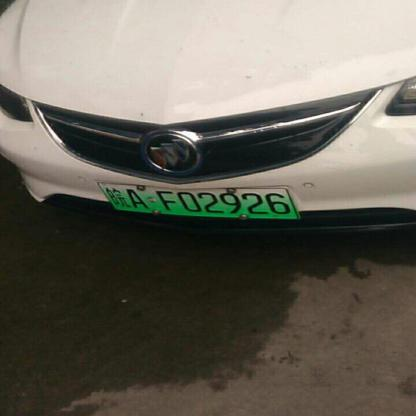lp: (97, 182, 298, 218)
